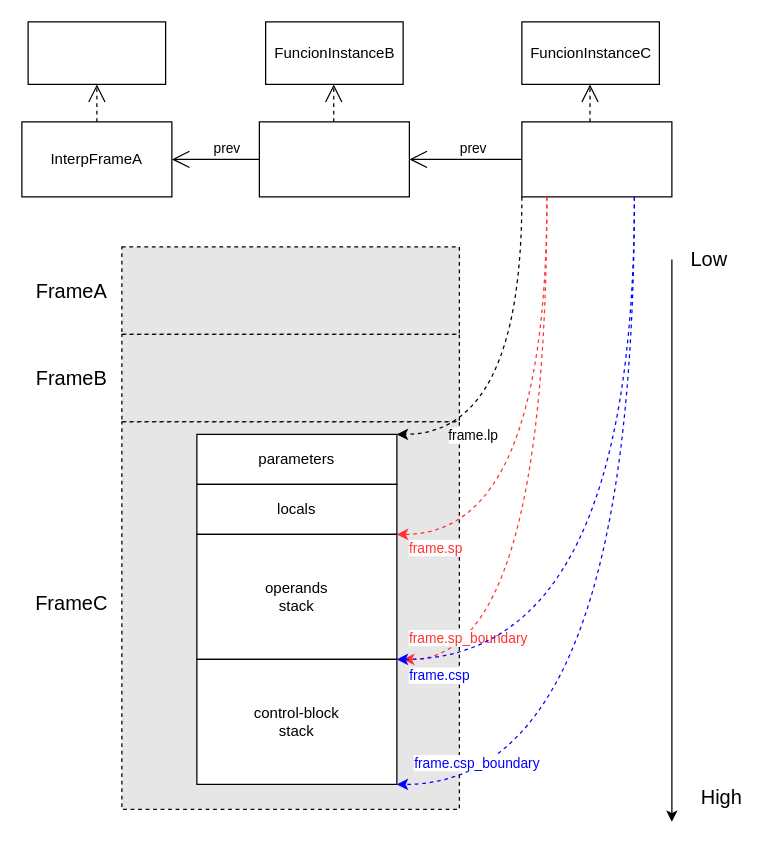
This 769x854 diagram has some shape labels left out. The shapes that lost their labels are listed below. From the top down, each one's centre as x and y in pixels, then its label:
At point 96,52: "FuncionInstanceA".
At point 333,159: "InterpFrameB".
At point 596,159: "InterpFrameC".
